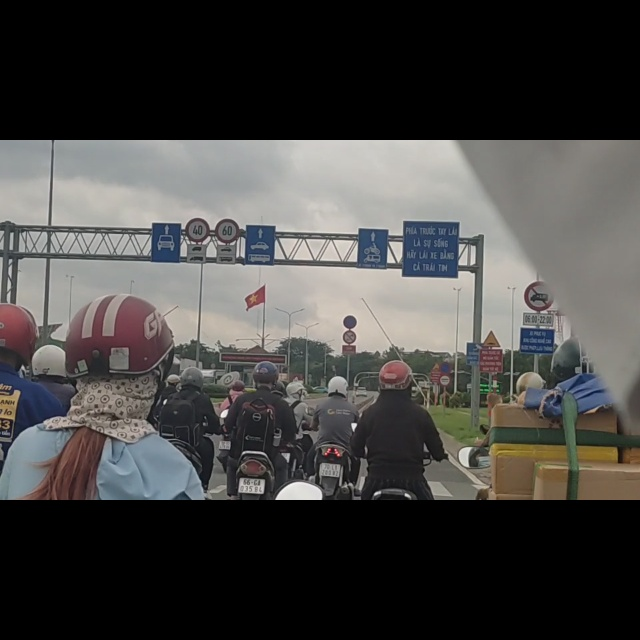bien_chi_dan: (525, 251, 551, 303), (185, 139, 211, 181), (215, 140, 240, 183), (466, 358, 481, 399), (482, 338, 501, 370), (343, 312, 357, 334), (343, 339, 356, 361), (440, 393, 452, 416), (439, 416, 451, 437)
